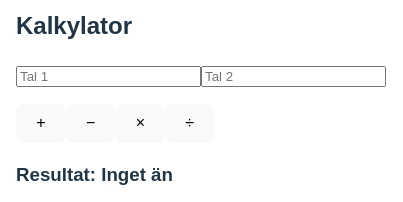
Test: Calculator-komponent › subtraherar två tal korrekt
Type "10" into the number field with placeholder "Tal 1". click: [108, 76]
box: [16,66,201,86]
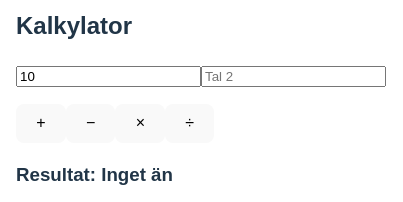
Type "4" into the number field with placeholder "Tal 2". click: [294, 76]
box: [201,66,386,86]
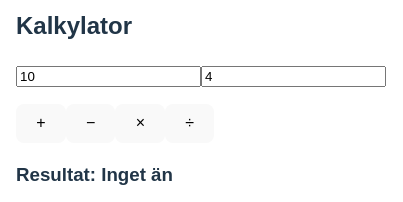
Click the button "−". click: [91, 123]
box: [66,104,115,143]
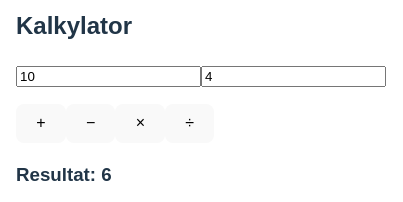
Expected: the heading "Resultat: 6" is shown, [16,164,112,186]
